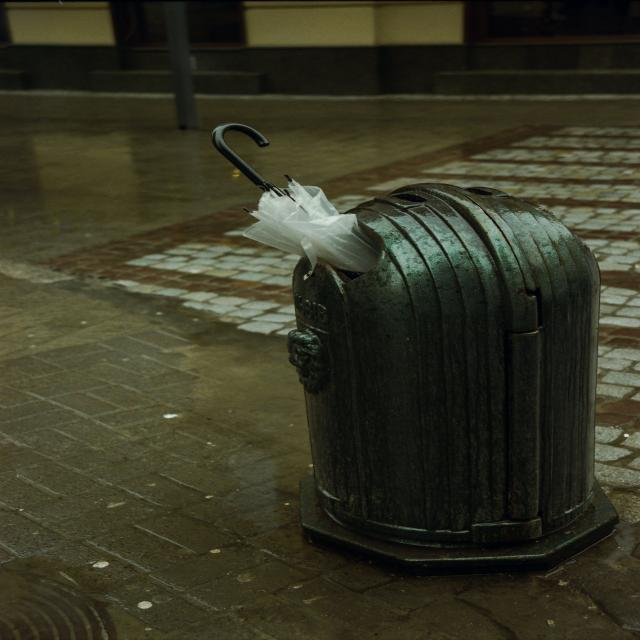plastic: (264, 207, 364, 262)
